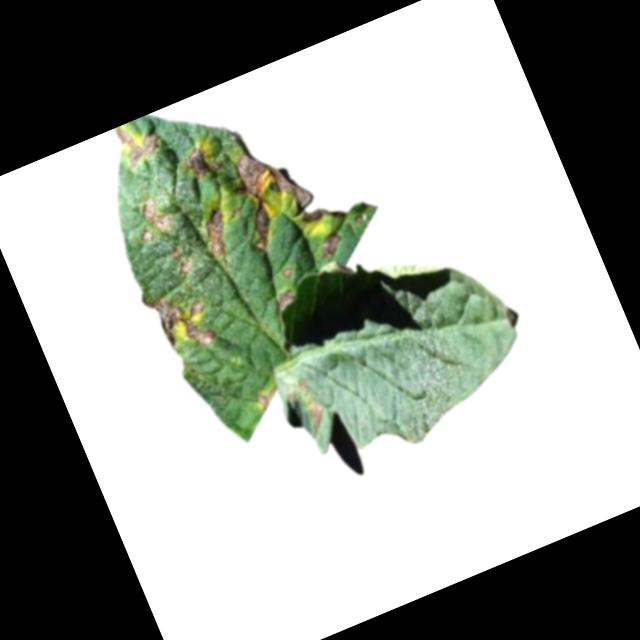Early_blight: (216, 132, 326, 254), (139, 277, 220, 366), (111, 113, 167, 171), (283, 375, 332, 439), (129, 192, 177, 244), (196, 204, 239, 259), (297, 198, 343, 231), (182, 145, 213, 182), (252, 382, 285, 415), (315, 230, 348, 262), (167, 241, 194, 279), (273, 287, 300, 312), (276, 265, 296, 282)
